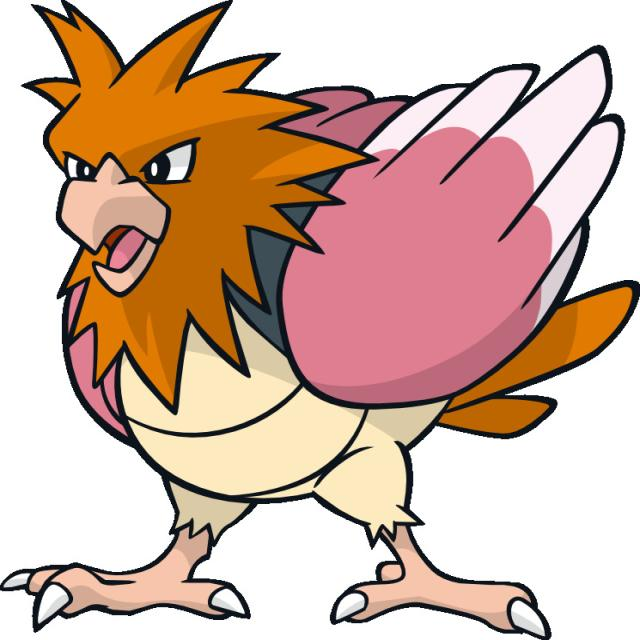Spearow: (0, 40, 562, 626)
